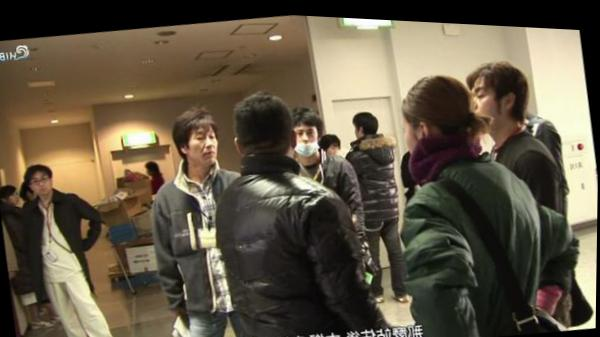NONE: (400, 106, 438, 161), (468, 79, 498, 123), (186, 127, 220, 165), (32, 172, 53, 196), (7, 189, 24, 207)
WRONG: (286, 118, 324, 156)
